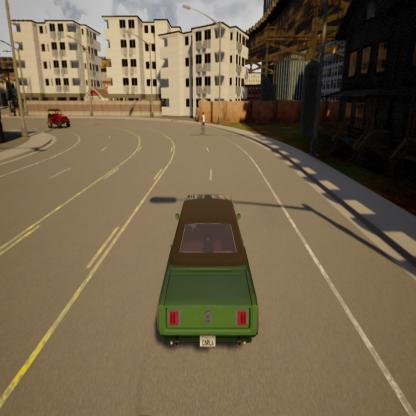Cars: (134, 177, 268, 365), (46, 104, 72, 134)
